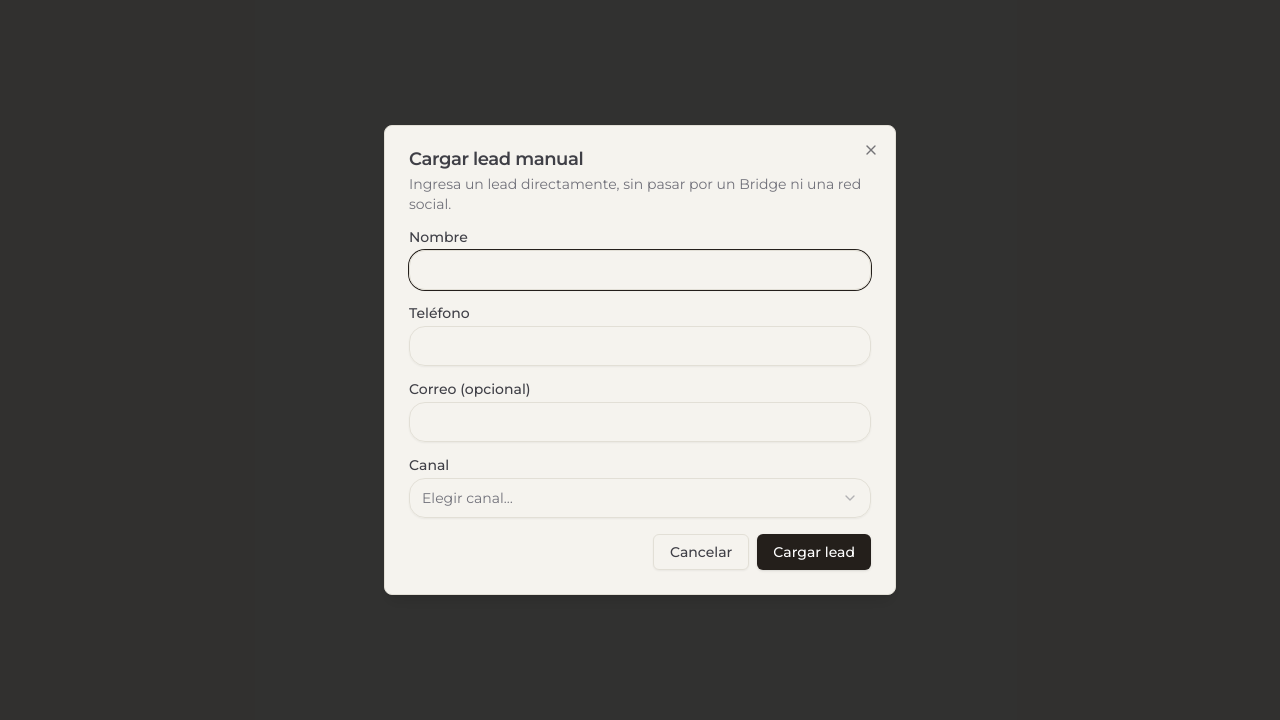
Test: CargarLeadManualDialog › solo ofrece canales activos en el selector
This screenshot has width=1280, height=720.
What coordinates should you click on to do the following:
click the dropdown labelled "canal"
I would click on:
 (467, 498)
Its box is [409,478,871,518].
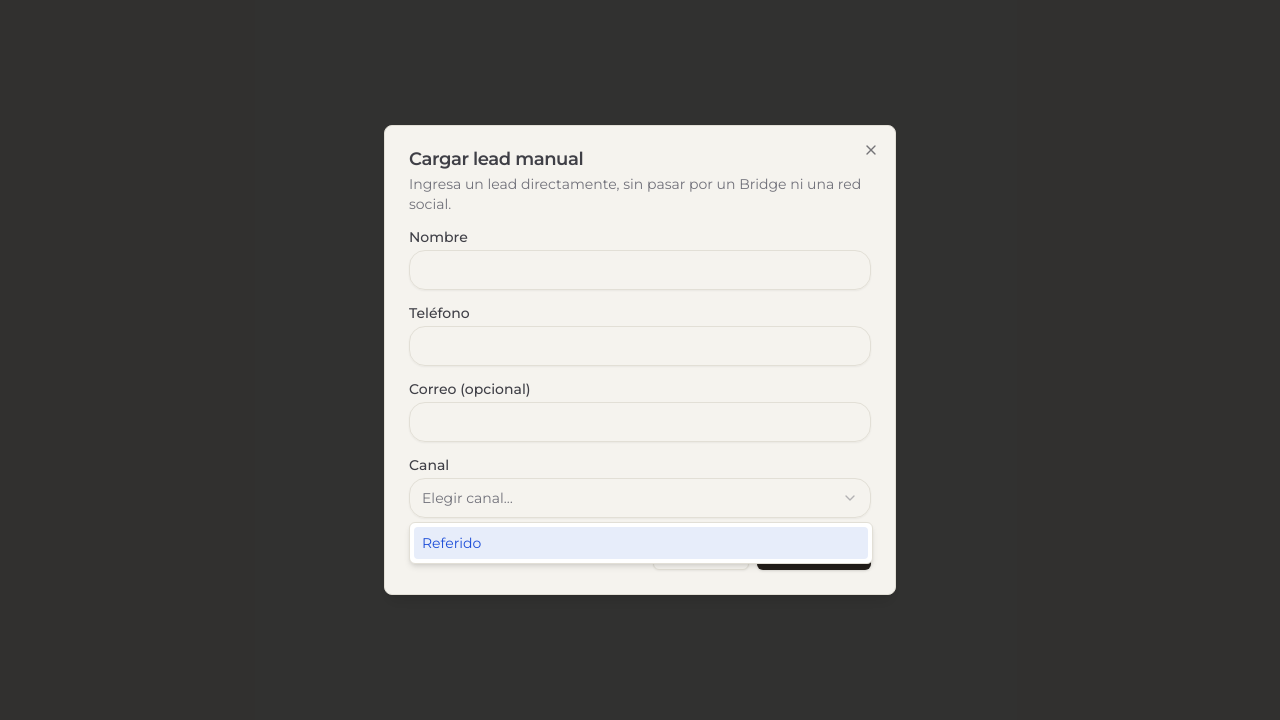
Now the option "Referido" is shown, box [414,527,868,559]
